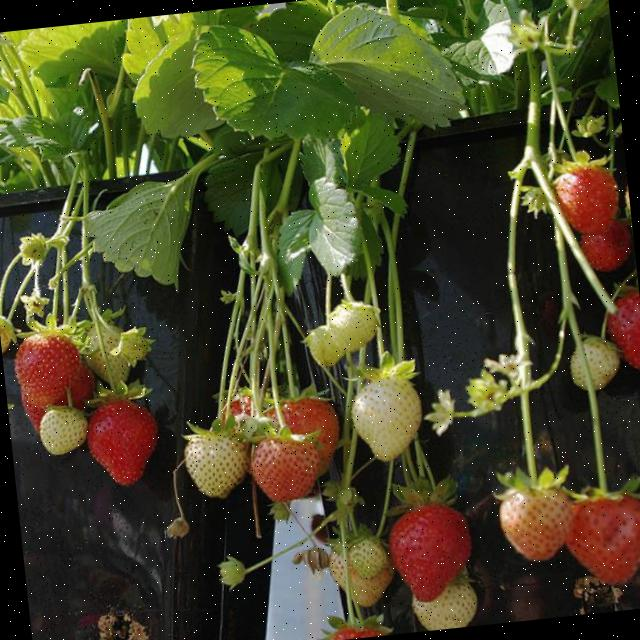Ripe Strawberry: (386, 500, 474, 601), (88, 397, 159, 488), (18, 332, 82, 407), (554, 166, 621, 234), (609, 291, 640, 371), (578, 228, 626, 272), (66, 364, 95, 401), (22, 390, 48, 429)
